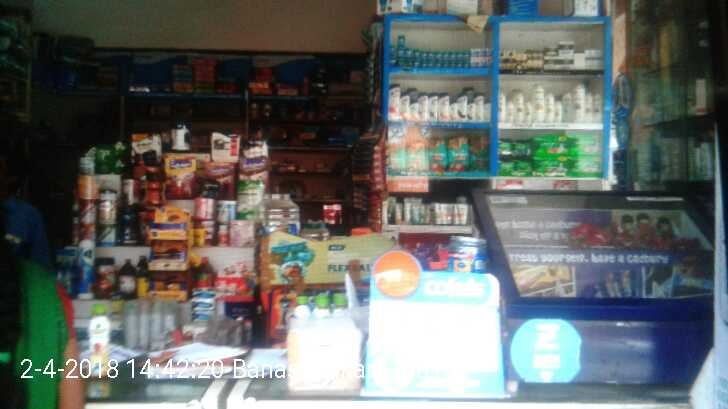vicks: (385, 36, 495, 71)
